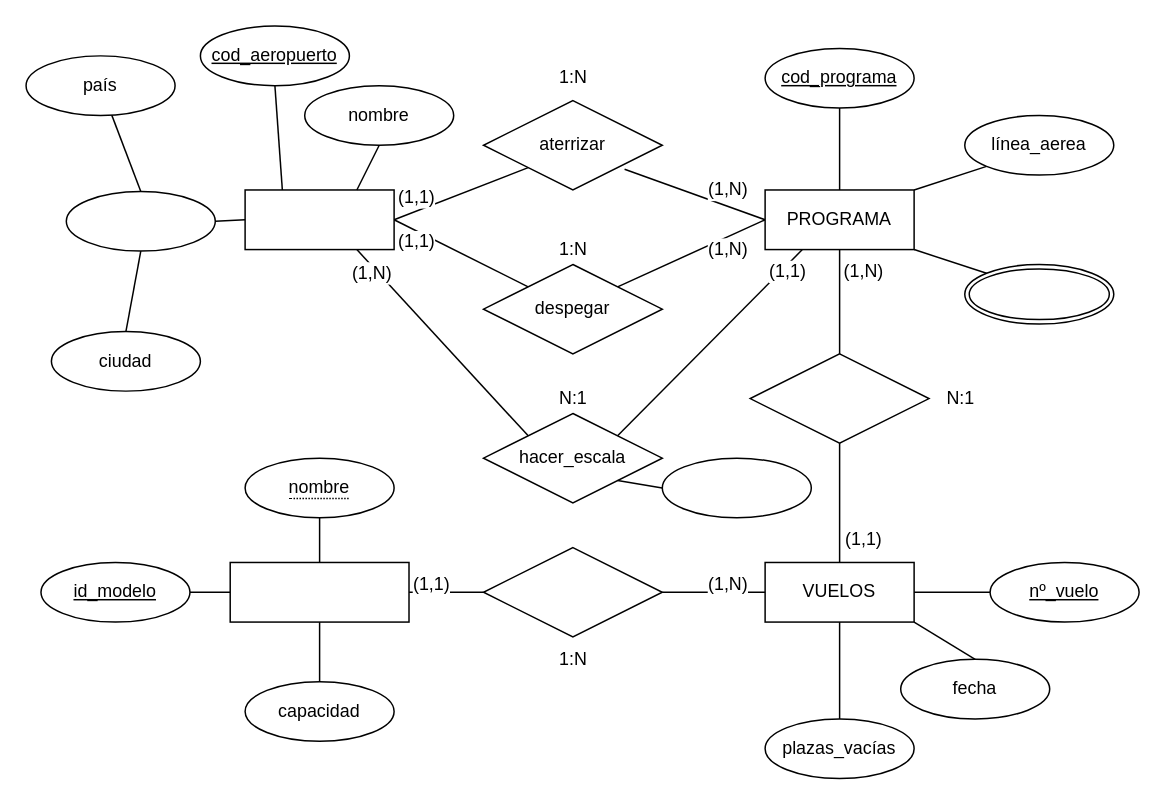
The diagram is 1165 pixels wide and 805 high, and some of its shapes have lost their labels. Each missing label, with the centre of its shape:
"AEROPUERTOS" goes at (x=319, y=219).
"contener" goes at (x=572, y=591).
"dirección" goes at (x=140, y=220).
"días_semana" goes at (x=1038, y=293).
"MODELO_AVIÓNES" goes at (x=319, y=591).
"nº_orden" goes at (x=736, y=487).
"pertenecer" goes at (x=839, y=397).
